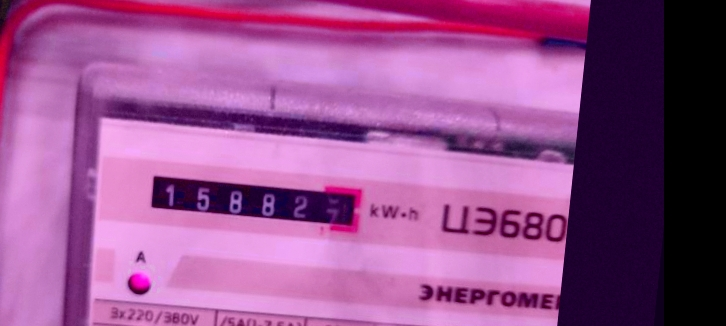1: (161, 182, 177, 208)
2: (291, 193, 308, 218)
5: (193, 184, 211, 211)
7: (323, 204, 339, 225)
8: (225, 188, 244, 216), (258, 191, 276, 217)
screen: (133, 158, 372, 245)
